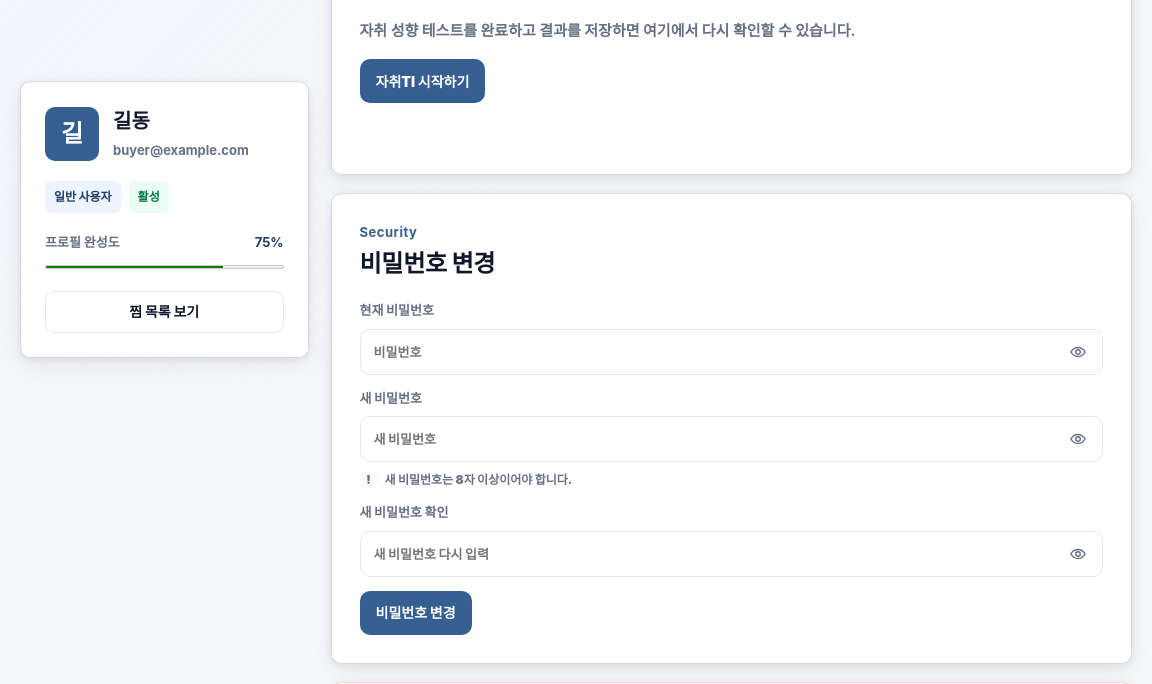
Test: MyPageView › 마이페이지에서 비밀번호를 변경할 수 있다
(page scrolled)
Type "temporary123!" into the password field with id "current-password".
click(731, 352); type("temporary123!")  # box [360,329,1103,375]
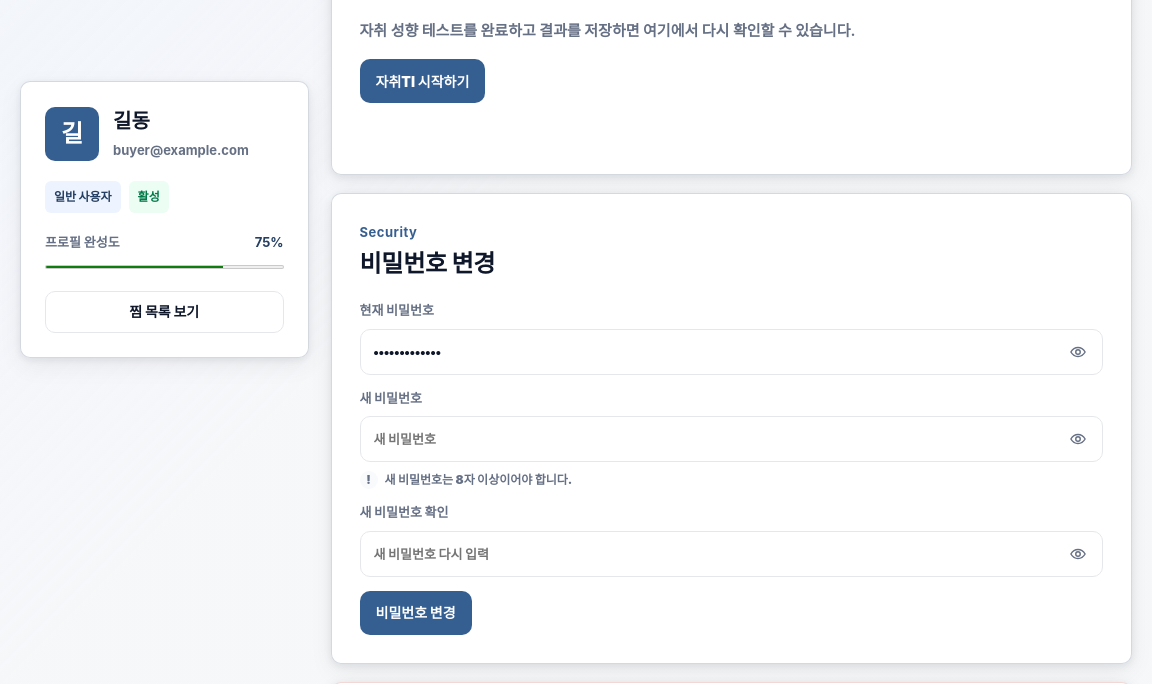
Type "short" into the password field with id "new-password".
click(731, 439); type("short")  # box [360,416,1103,462]
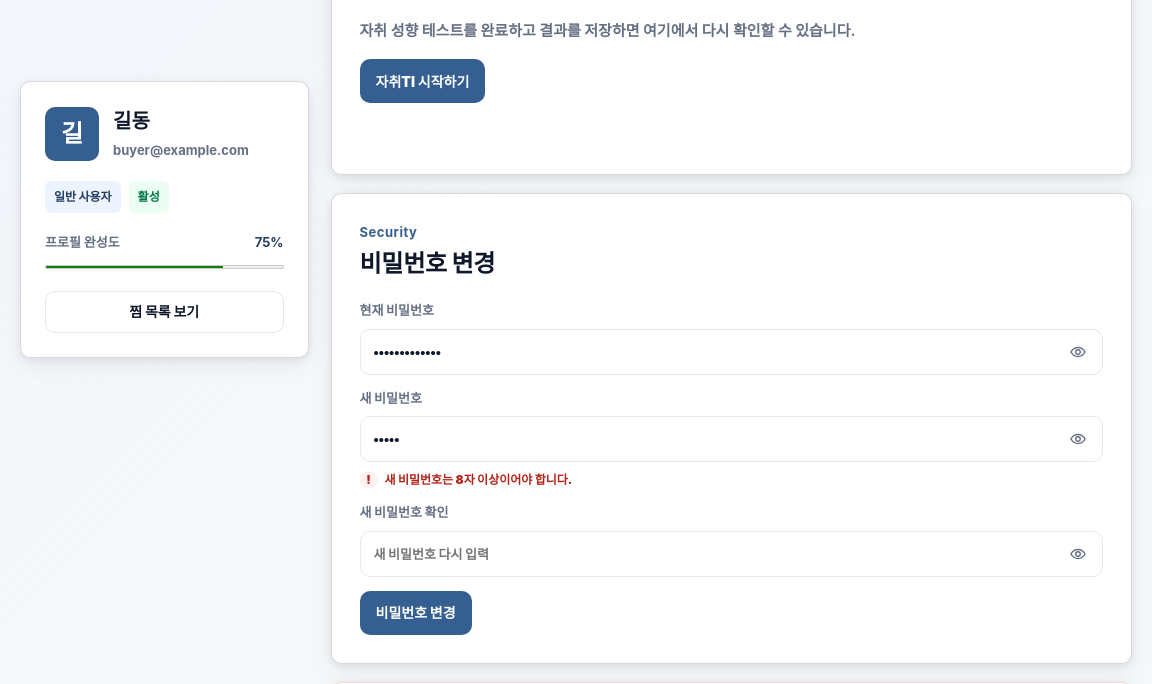
Expected: the element with test id "password-rule" has class "password-rule--invalid", [360,471,572,489]
Type "newPassword123!" into the password field with id "new-password".
click(731, 439); type("newPassword123!")  # box [360,416,1103,462]
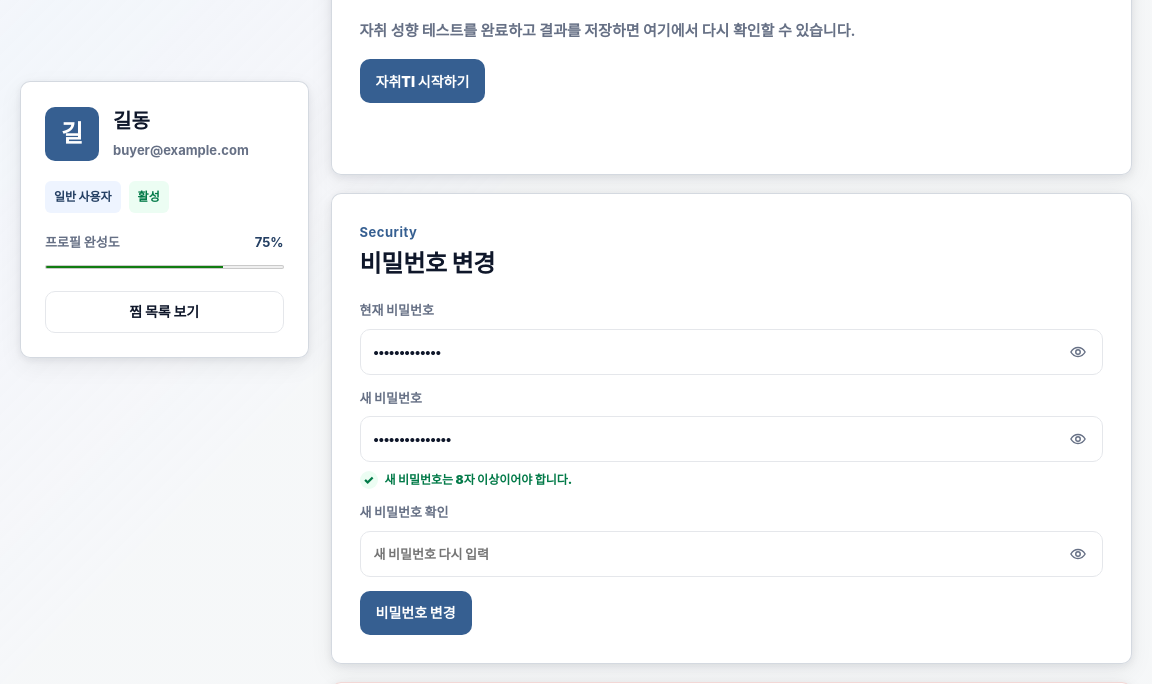
Expected: the element with test id "password-rule" has class "password-rule--valid", [360,471,572,489]
Type "newPassword123!" into the password field with id "confirm-password".
click(731, 554); type("newPassword123!")  # box [360,531,1103,577]
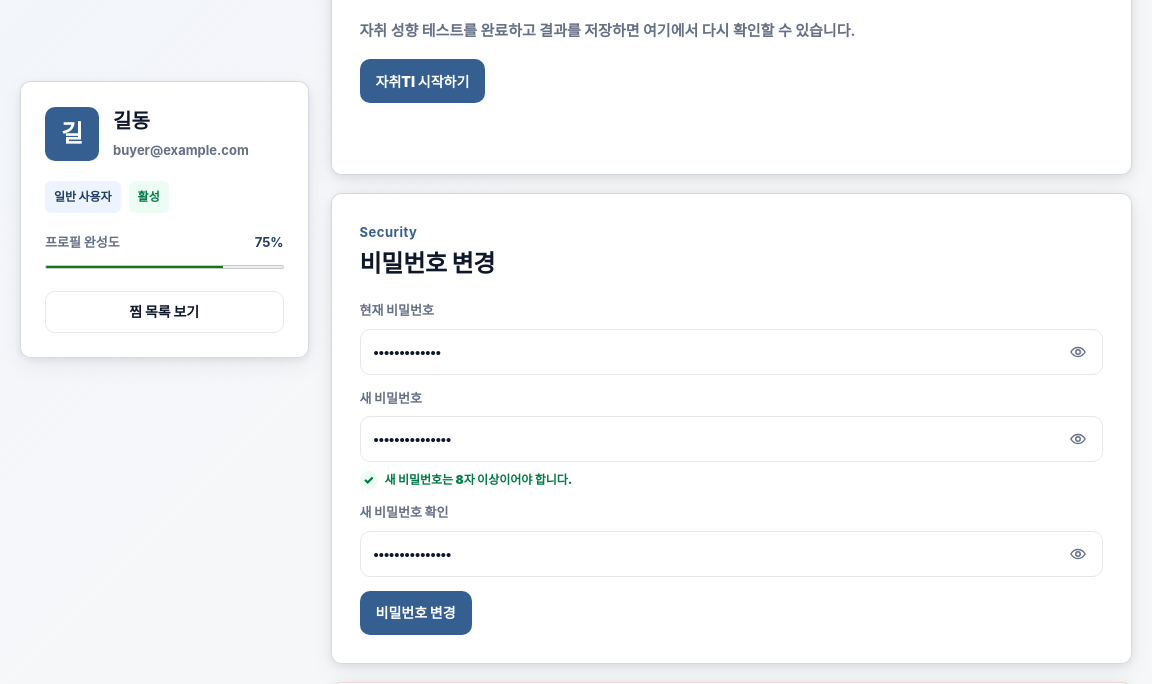
Submit the form, box [360,301,1103,635]
(page scrolled)
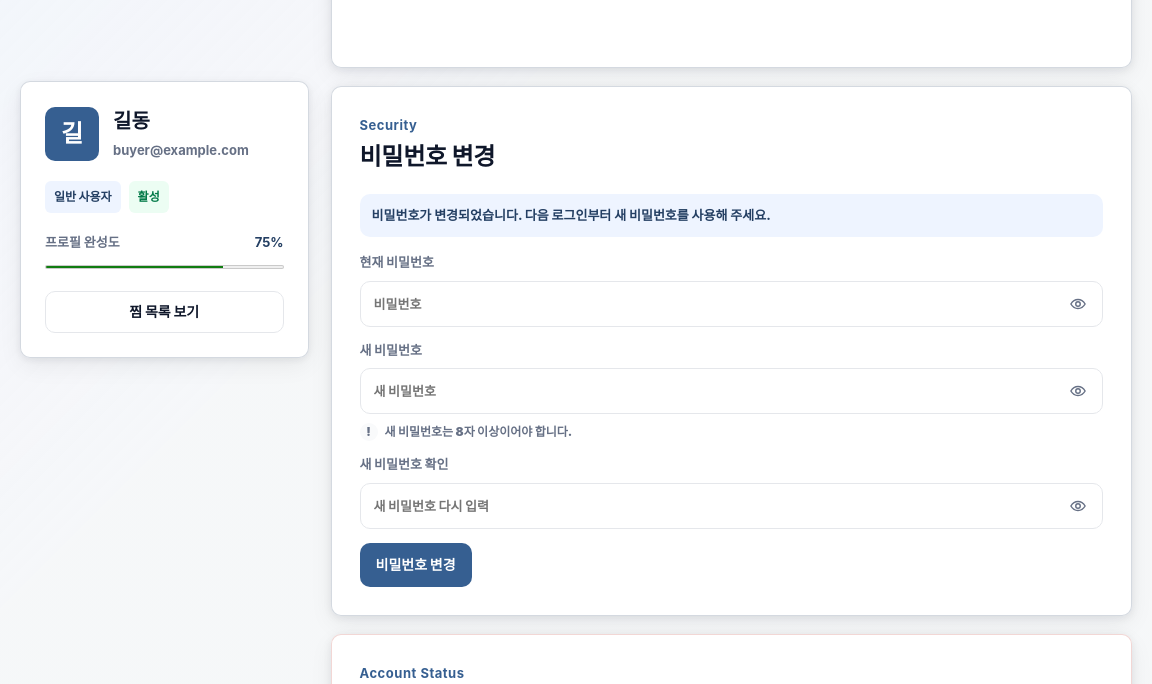
Expected: the element with class "security-panel" shows "비밀번호가 변경되었습니다.", [372,207,771,223]
